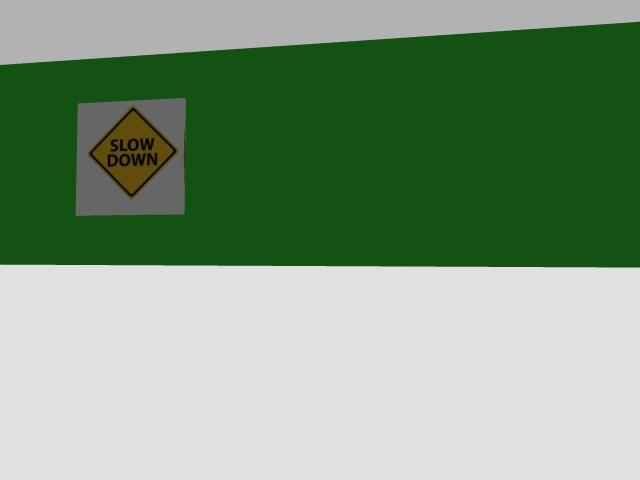slowsign: (76, 98, 185, 215)
